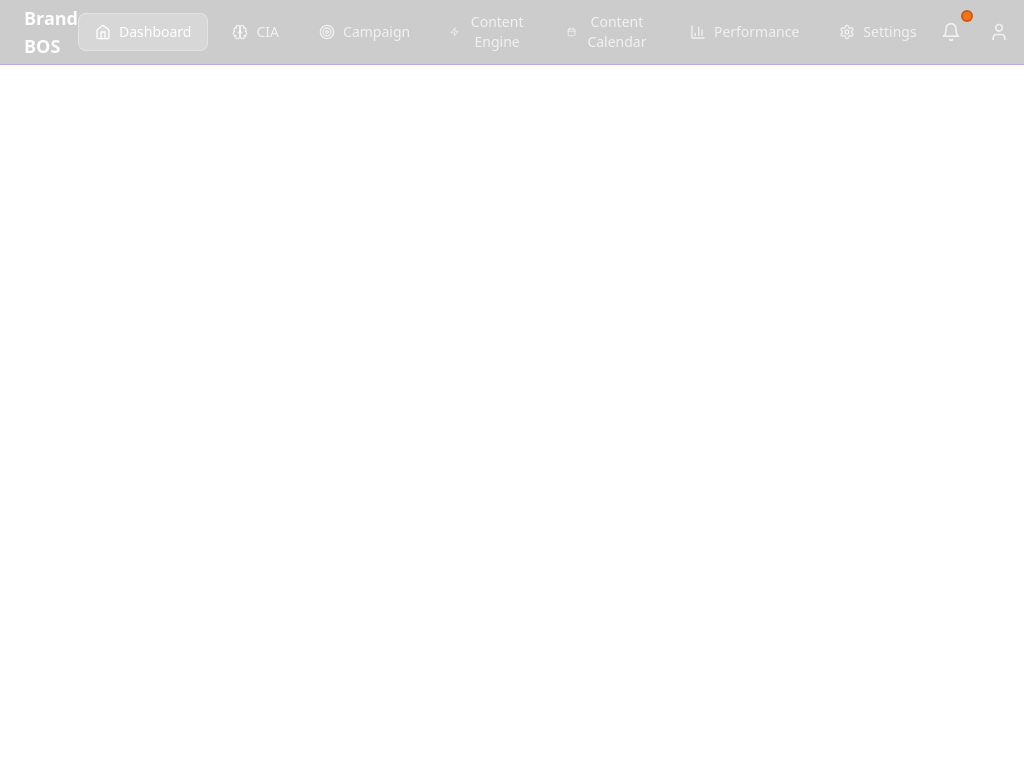
TopNavigation › Notifications › should close notifications when X button is clicked
Click the button with class "lucide-bell": point(951, 32) [933,14,969,50]
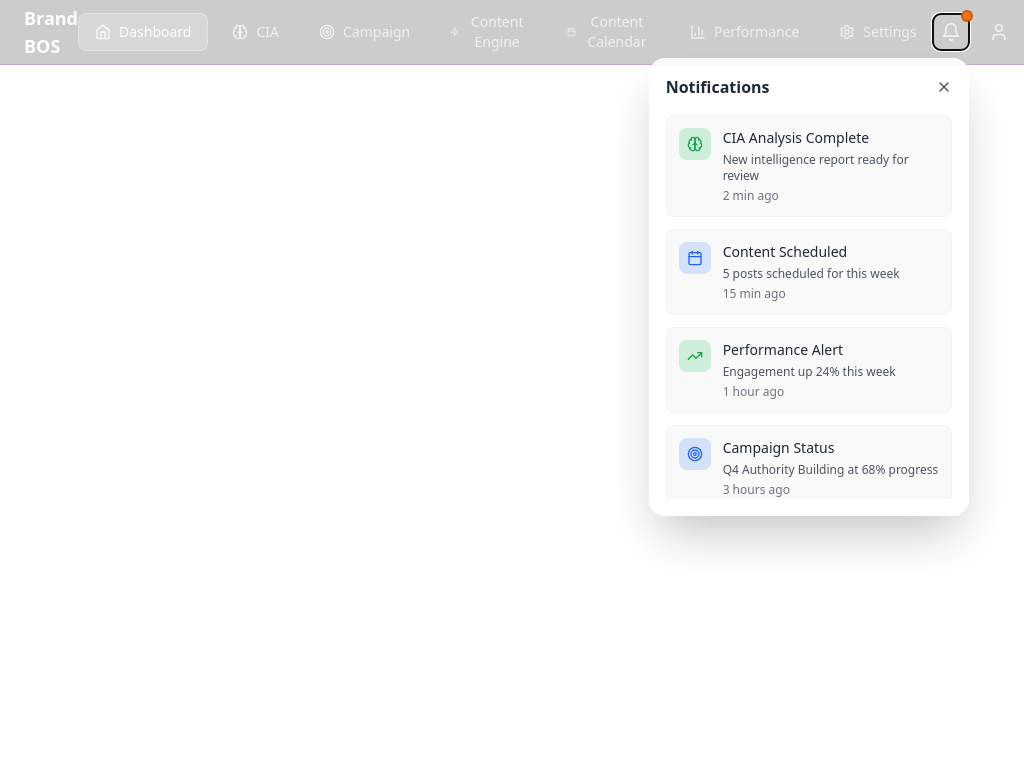
Check: the heading "Notifications" is shown, box [666,75,770,99]
Click the button without text in the row of "Notifications": point(944, 87) [936,79,952,95]
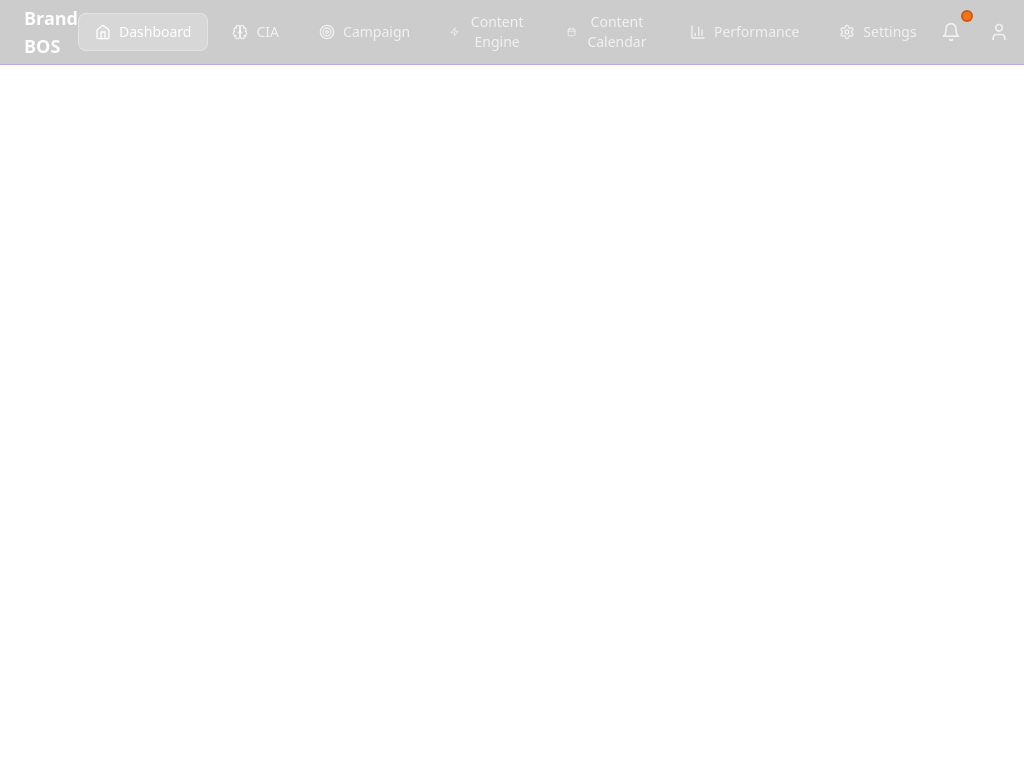
Check: the heading "Notifications" is gone
